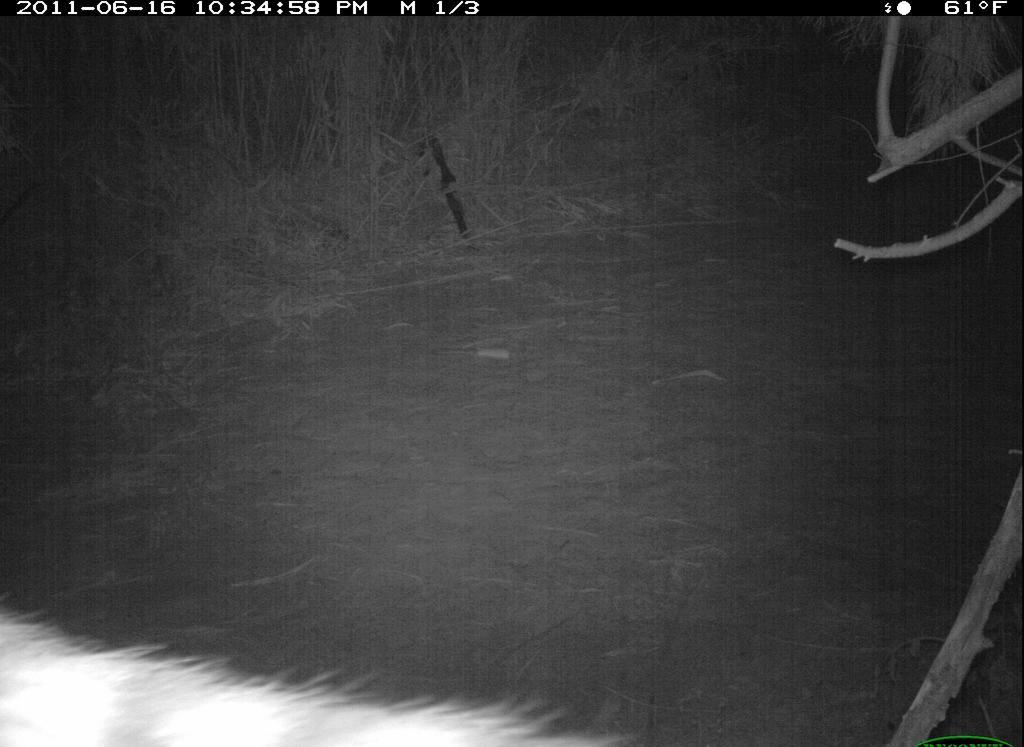raccoon: (4, 598, 670, 743)
